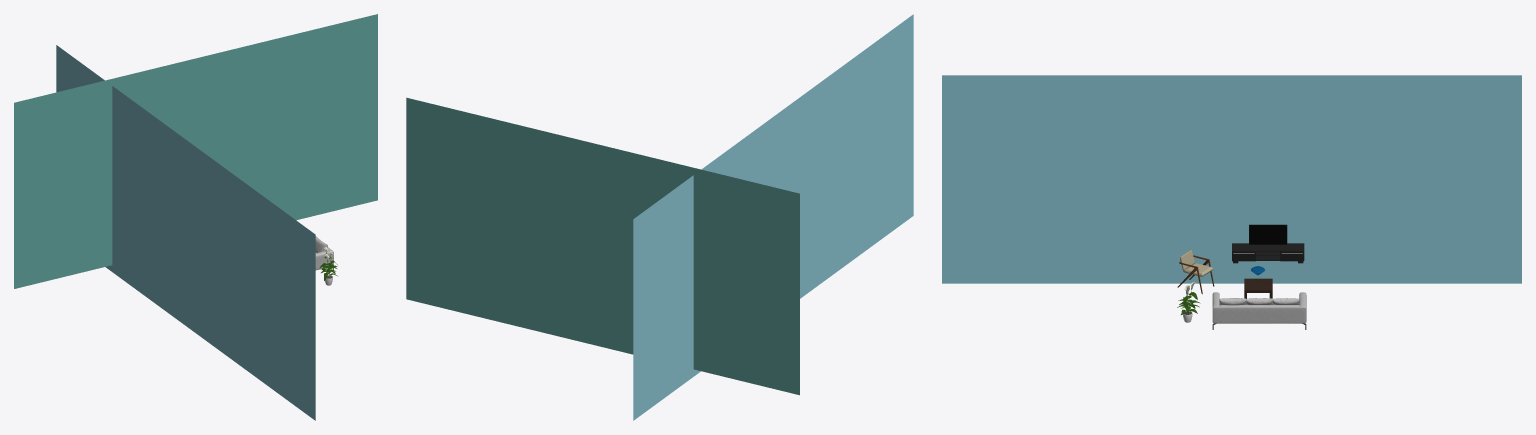
Rendered from angular-size-room-optimized.glb.
3 renders of one model, left to right at view 1: azimuth 30°, elevation 25°; view 2: azimuth 150°, elevation 25°; view 3: azimuth 270°, elevation 25°, orthographic. The views are drawn at different scales.
Parts seen in each view (by area): view 1: Plane.003, Plane, Cube.004; view 2: Plane.003, Plane; view 3: Plane, Cube.004, Cube.009, Cube.005.
Part boxes in pixels (bbox=[...]): Plane.003: bbox=[14, 14, 377, 288]; Plane: bbox=[56, 45, 315, 420]; Cube.004: bbox=[315, 236, 333, 270]; Plane.003: bbox=[406, 97, 799, 395]; Plane: bbox=[633, 14, 913, 420]; Plane: bbox=[942, 75, 1521, 283]; Cube.004: bbox=[1212, 292, 1306, 329]; Cube.009: bbox=[1232, 243, 1304, 263]; Cube.005: bbox=[1249, 224, 1287, 244].
Size of what is drawn, in the model's own units: 11.71 by 5.94 by 14.45.
Materials: 11 (10 with a texture image).
